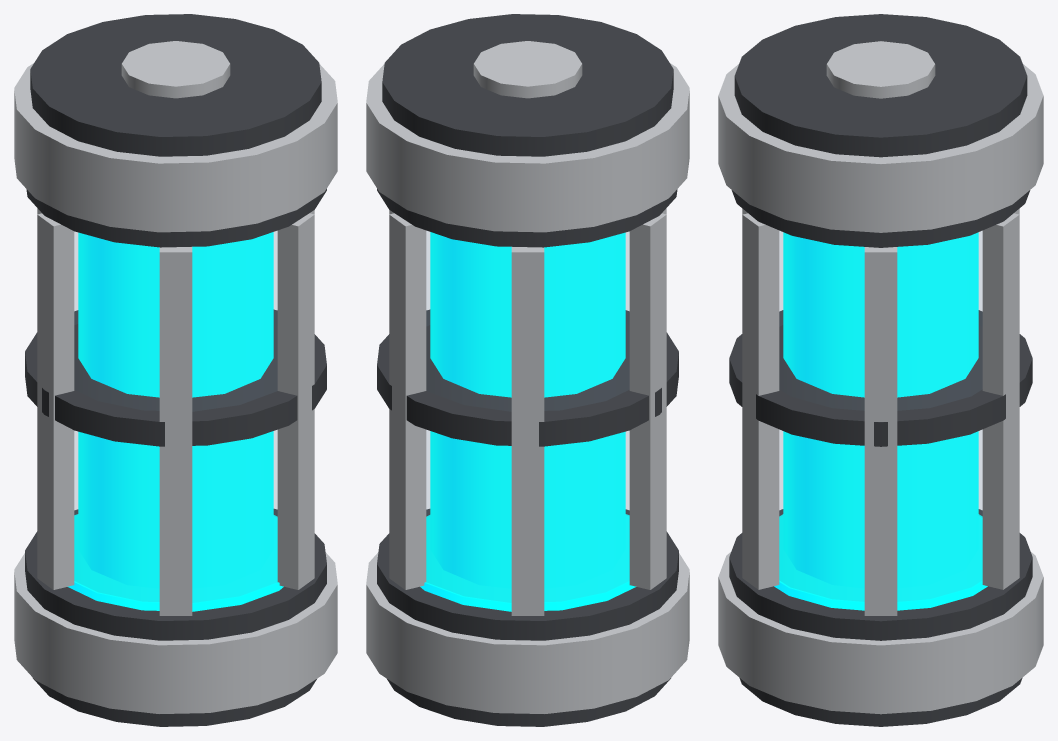
File: FV_PowerCell.fbx
3 renders of one model, left to right at view 1: azimuth 30°, elevation 25°; view 2: azimuth 150°, elevation 25°; view 3: azimuth 270°, elevation 25°, orthographic.
Visible parts, largest first — view 1: PowerCell; view 2: PowerCell; view 3: PowerCell.
Part boxes in pixels (x1,y1,x2,y2): PowerCell: (14, 14, 337, 726); PowerCell: (366, 14, 689, 726); PowerCell: (718, 14, 1043, 726).
Size of the model in its own units: 0.3 by 0.612 by 0.3.
